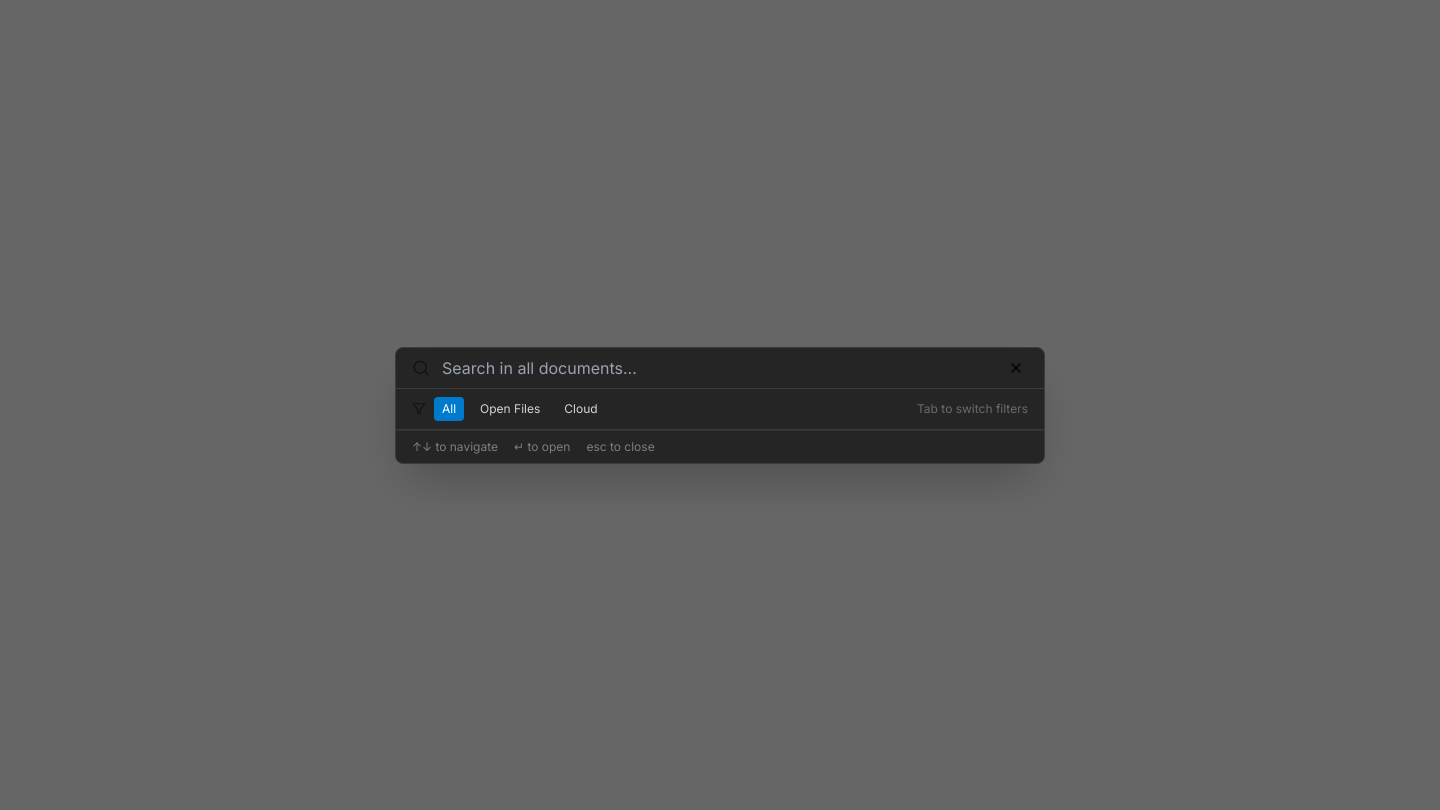
Test case: SearchModal › Filter Functionality › should filter to cloud documents only
Note: Click "Cloud" filter
Click the button "Cloud".
click(581, 408)  # box top-left (556, 396), bottom-right (606, 420)
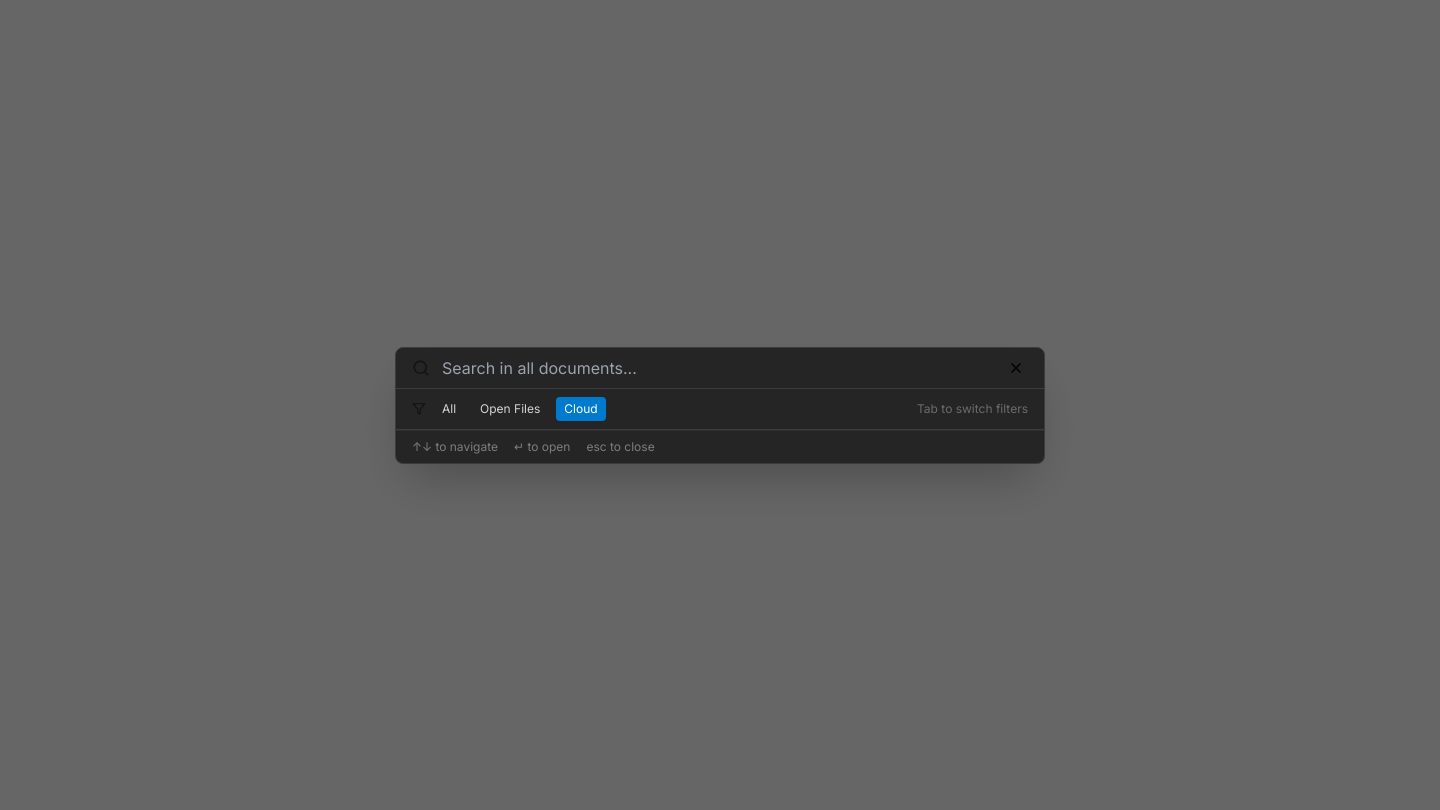
Type "search term" into the field with placeholder "Search in all documents...".
click(719, 368); type("search term")  # box top-left (442, 356), bottom-right (996, 380)
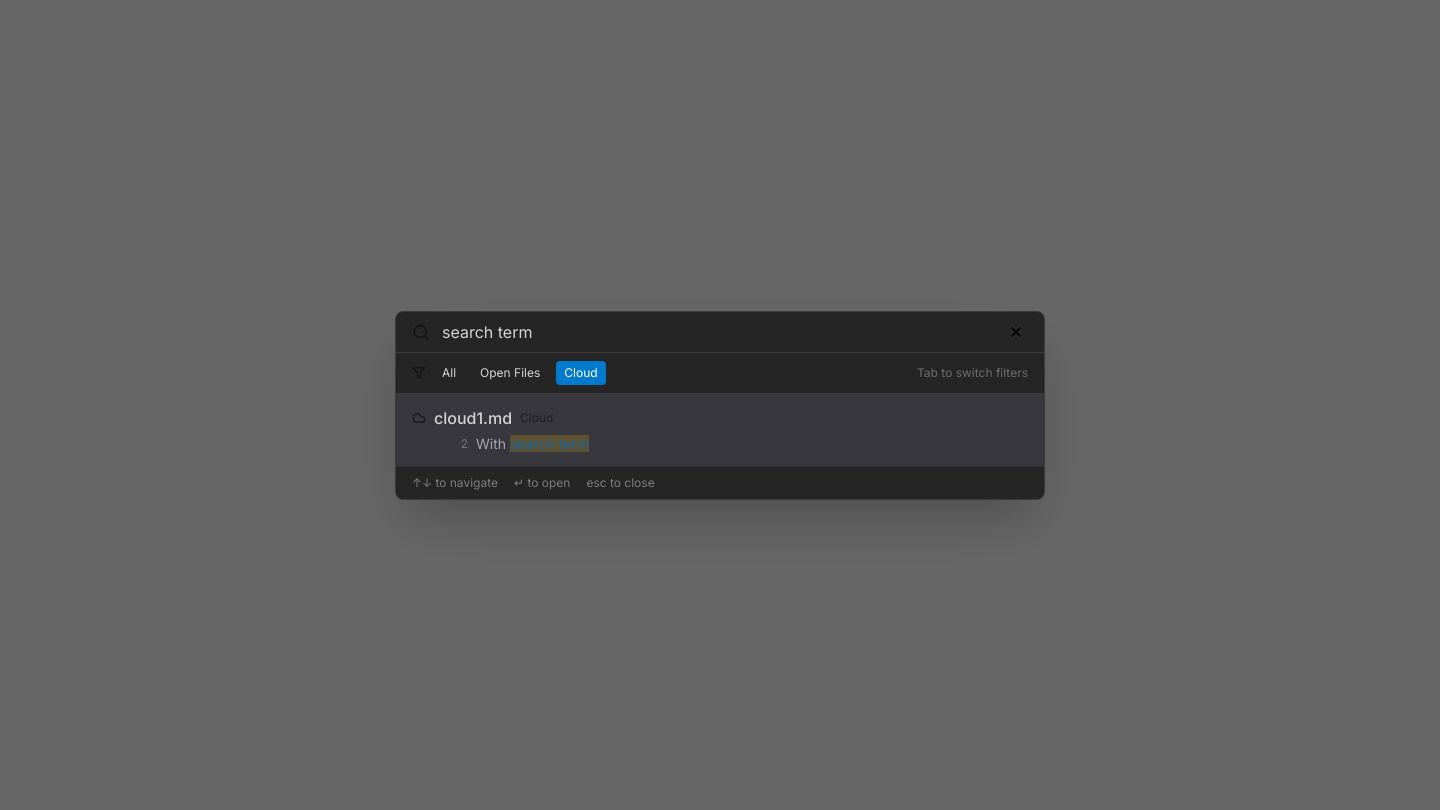
expect the text "cloud1.md" is shown: met, box top-left (434, 406), bottom-right (512, 430)
